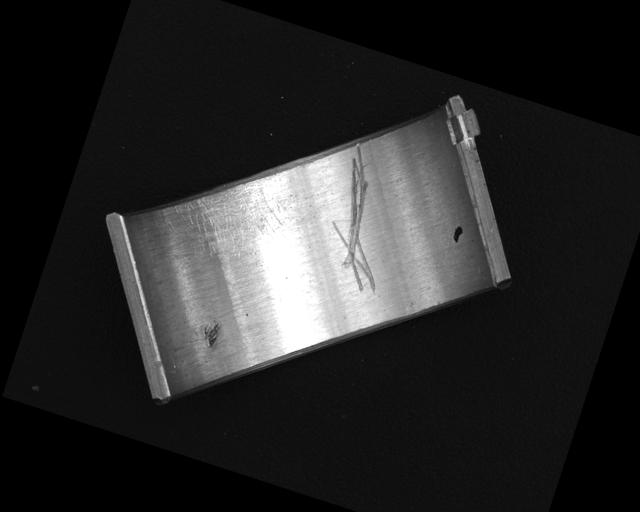blot: (450, 222, 466, 245)
bruise: (198, 318, 224, 350)
nick: (313, 137, 419, 296)
scratch: (155, 154, 302, 278)
